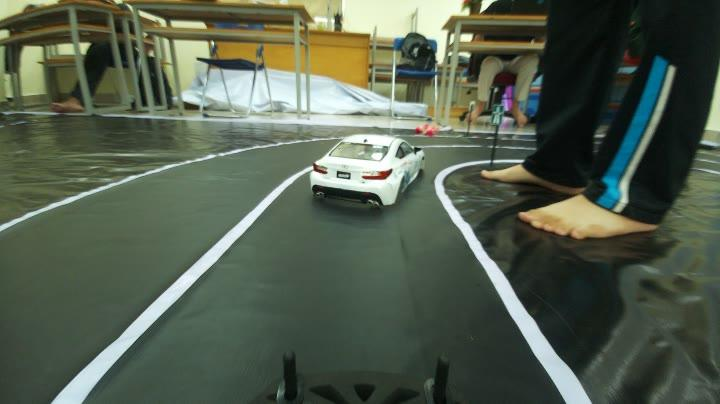car: (310, 124, 416, 214)
highway_entry: (488, 103, 509, 130)
